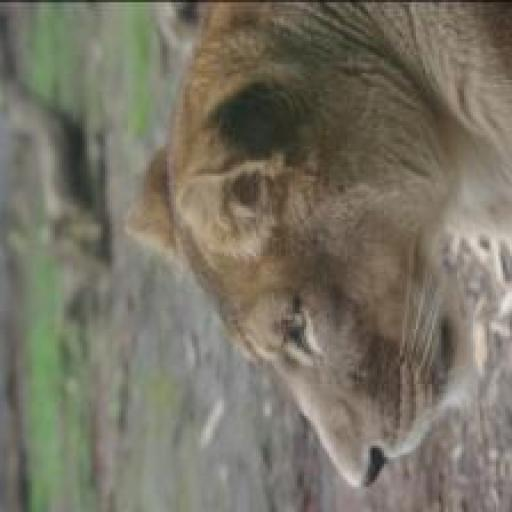lion: (116, 11, 512, 508)
